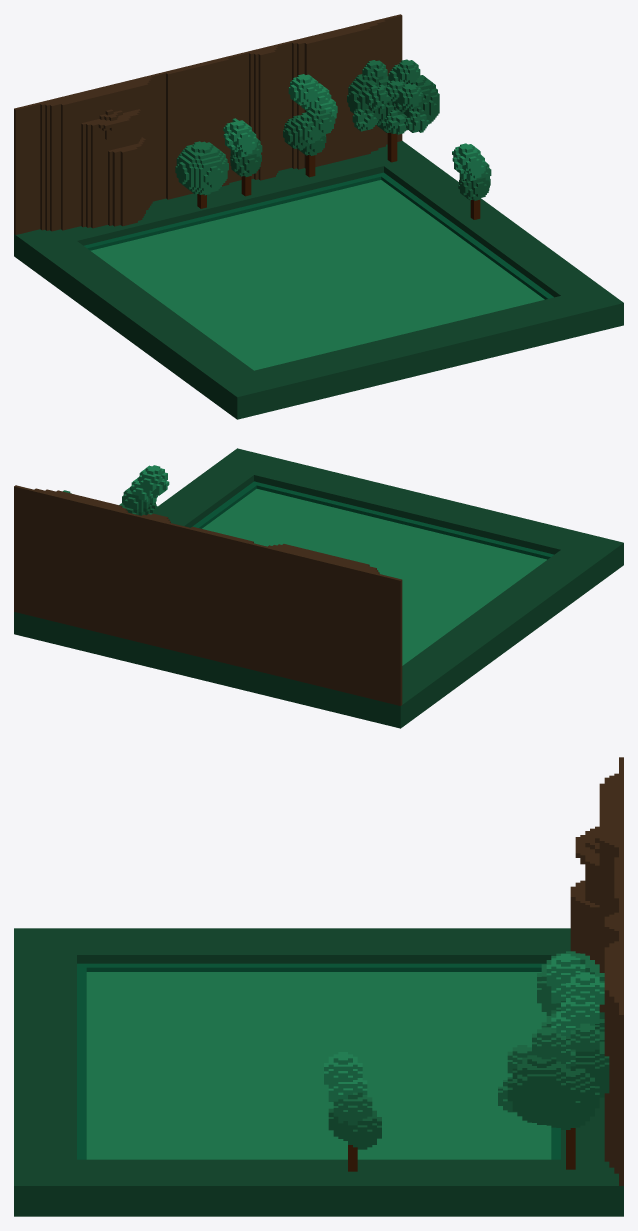
The model's file is landscapetest.obj.
The picture shows the model from 3 angles, top to bottom: view 1: azimuth 30°, elevation 25°; view 2: azimuth 150°, elevation 25°; view 3: azimuth 270°, elevation 25°; orthographic projection. The views are drawn at different scales.
Size of the model in its own units: 126 by 46 by 126.
1 material, 1 textured.
